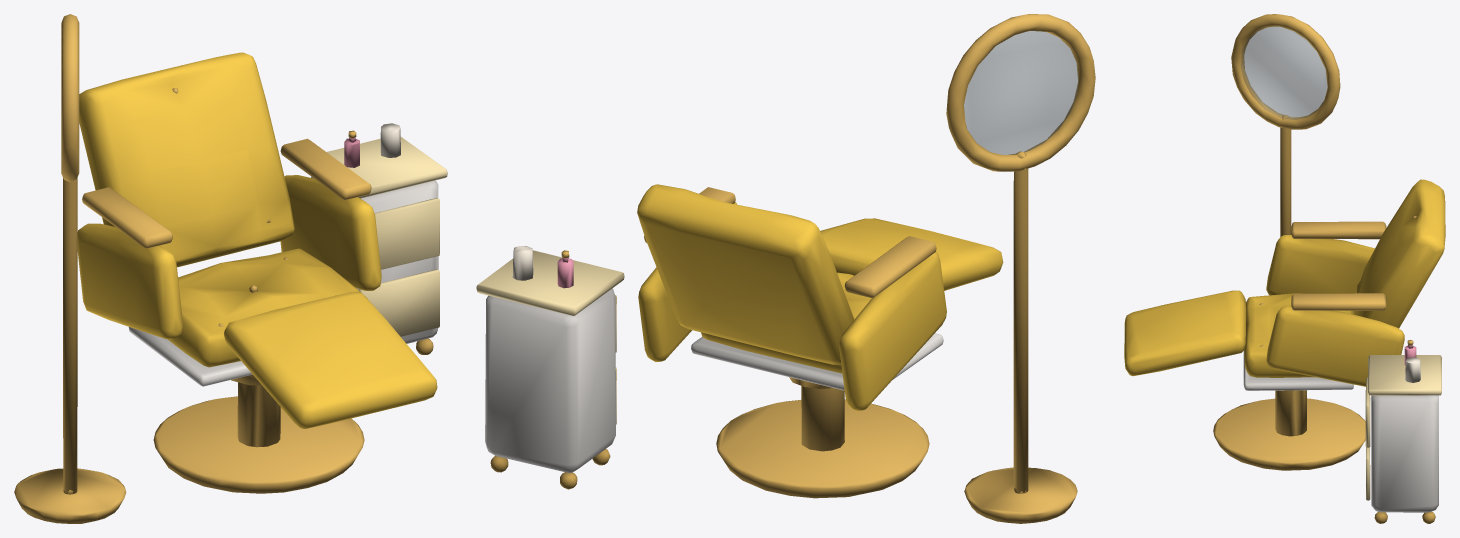
File: brow-bar-sunny.glb
3 renders of one model, left to right at view 1: azimuth 30°, elevation 25°; view 2: azimuth 150°, elevation 25°; view 3: azimuth 270°, elevation 25°, orthographic. The views are drawn at different scales.
Visible parts, largest first — view 1: brow-bar-sunny; view 2: brow-bar-sunny; view 3: brow-bar-sunny.
Part boxes in pixels (box(x1,y1,x2,y2)): brow-bar-sunny: box(14, 14, 447, 523); brow-bar-sunny: box(476, 14, 1095, 523); brow-bar-sunny: box(1124, 14, 1445, 523).
Bounding box in the file's own units: 1.56 × 1.49 × 1.21.
